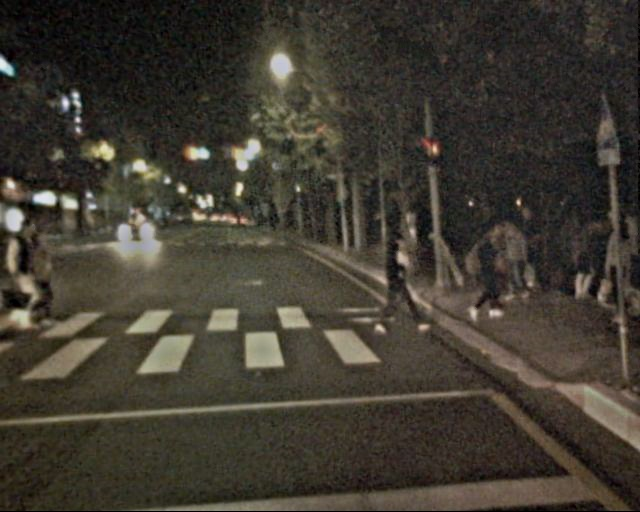person: (472, 209, 541, 320), (14, 216, 59, 326), (371, 227, 416, 337), (599, 223, 640, 325), (30, 227, 70, 325), (554, 208, 590, 296), (567, 221, 599, 300)
